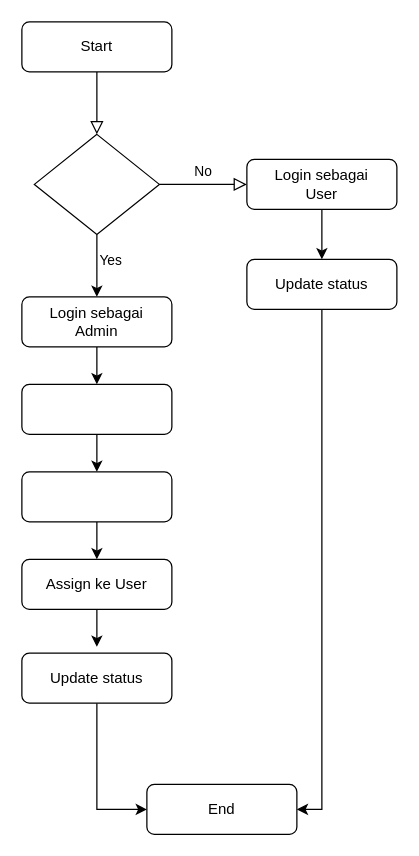
Image size: 419x856. Some labels were removed from this diagram. The box of each missing label's shape, as (x1, y1, x2, y2) in pixels:
Apakah Admin?: (33, 133, 159, 234)
Buat proyek: (21, 383, 172, 434)
Tambah tugas: (21, 471, 172, 522)
